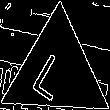L_NE: (32, 41, 81, 101)
